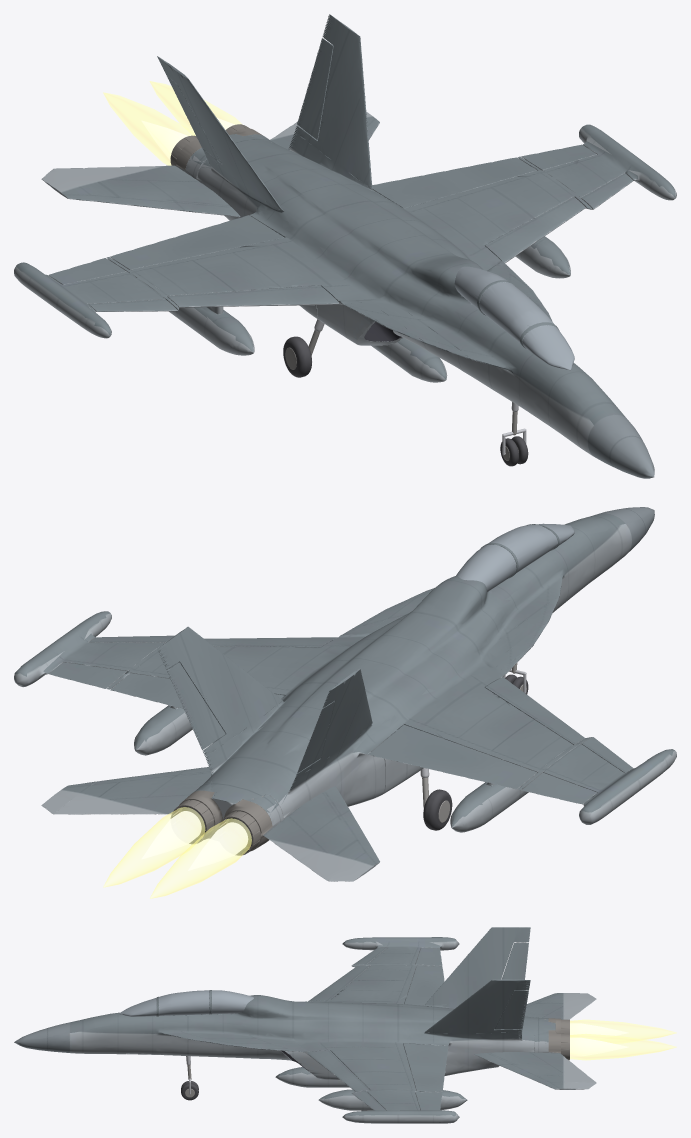
3 views of the same model, one above another, from view 1: azimuth 30°, elevation 25°; view 2: azimuth 150°, elevation 25°; view 3: azimuth 270°, elevation 25° (orthographic). The views are drawn at different scales.
Parts seen in each view (by area): view 1: airframe, fsim:flaps (×2), fsim:lef@-5,34 (×4), fsim:elevator+aileron:-0.4@-24,20, fsim:afterburner:1, fsim:rudder (×2), fsim:aileron (×2), fsim:afterburner:0, fsim:wheel:2:0.4065; view 2: airframe, fsim:elevator+aileron:-0.4@-24,20, fsim:flaps (×2), fsim:elevator+aileron:0.4@-24,20, fsim:afterburner:1, fsim:afterburner:0, fsim:lef@-5,34 (×3), fsim:rudder (×2), fsim:aileron (×2), fsim:wheel:2:0.4065, fsim:gear:90:0:0.2; view 3: airframe, fsim:flaps (×2), fsim:elevator+aileron:0.4@-24,20, fsim:afterburner:0, fsim:afterburner:1, fsim:rudder (×2), fsim:lef@-5,34 (×2), fsim:elevator+aileron:-0.4@-24,20, fsim:aileron (×2).
Part boxes in pixels (x1,y1,x2,y2): airframe: [14, 14, 676, 478]; fsim:flaps (×2): [110, 157, 536, 269]; fsim:lef@-5,34 (×4): [88, 173, 633, 311]; fsim:elevator+aileron:-0.4@-24,20: [41, 165, 240, 217]; fsim:afterburner:1: [103, 92, 195, 165]; fsim:rudder (×2): [167, 38, 333, 164]; fsim:aileron (×2): [49, 144, 596, 284]; fsim:afterburner:0: [149, 81, 242, 135]; fsim:wheel:2:0.4065: [283, 336, 311, 377]; airframe: [14, 507, 676, 850]; fsim:elevator+aileron:-0.4@-24,20: [264, 786, 379, 881]; fsim:flaps (×2): [110, 673, 537, 789]; fsim:elevator+aileron:0.4@-24,20: [41, 767, 211, 814]; fsim:afterburner:1: [150, 818, 251, 898]; fsim:afterburner:0: [103, 807, 205, 887]; fsim:lef@-5,34 (×3): [204, 637, 633, 773]; fsim:rudder (×2): [167, 662, 334, 773]; fsim:aileron (×2): [49, 662, 597, 804]; fsim:wheel:2:0.4065: [423, 789, 452, 830]; fsim:gear:90:0:0.2: [382, 758, 423, 794]; airframe: [14, 927, 560, 1123]; fsim:flaps (×2): [403, 966, 448, 1091]; fsim:elevator+aileron:0.4@-24,20: [474, 1052, 596, 1089]; fsim:afterburner:0: [570, 1034, 676, 1060]; fsim:afterburner:1: [570, 1019, 676, 1043]; fsim:rudder (×2): [495, 943, 528, 1029]; fsim:lef@-5,34 (×2): [306, 965, 370, 1091]; fsim:elevator+aileron:-0.4@-24,20: [525, 993, 596, 1019]; fsim:aileron (×2): [415, 947, 442, 1110].
Size of the model in its own units: 13.28 by 5.07 by 20.8.
Materials: 9 (1 with a texture image).
